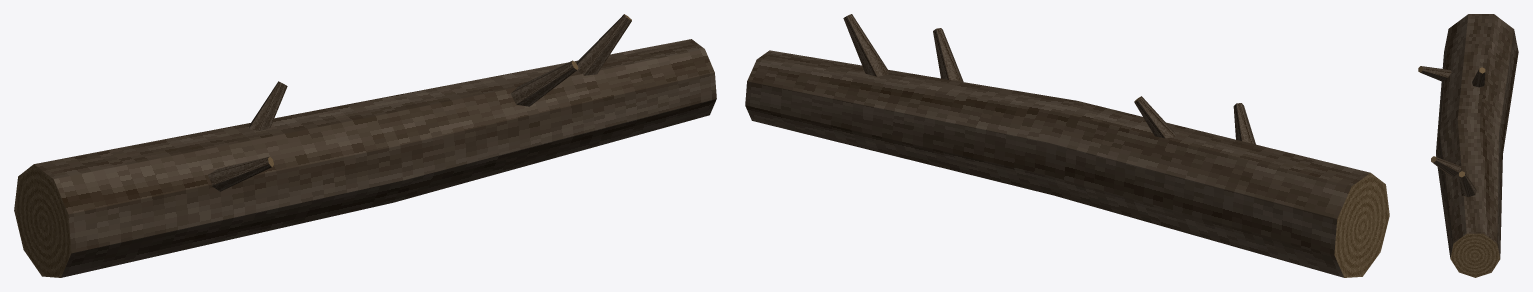
Rendered from env_trees_09_fallen_branched.glb.
3 views of the same model, side by side, from view 1: azimuth 30°, elevation 25°; view 2: azimuth 150°, elevation 25°; view 3: azimuth 270°, elevation 25° (orthographic). The views are drawn at different scales.
Visible parts, largest first — view 1: solid; view 2: solid; view 3: solid.
Part boxes in pixels (x1,y1,x2,y2): solid: [14, 14, 716, 277]; solid: [745, 14, 1389, 277]; solid: [1418, 14, 1518, 277].
Size of the model in its own units: 2.41 by 0.4811 by 0.5031.
1 material, 1 textured.
